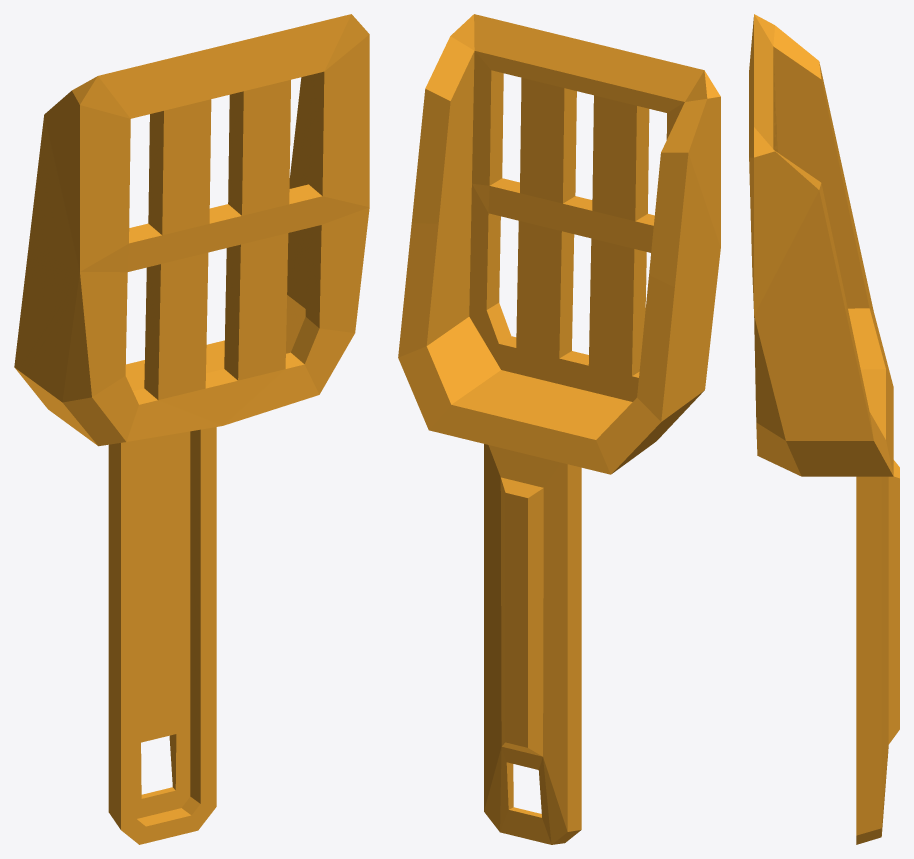
File: SM_Cat_Toilet_Scoop.fbx
The picture shows the model from 3 angles, left to right: view 1: azimuth 30°, elevation 25°; view 2: azimuth 150°, elevation 25°; view 3: azimuth 270°, elevation 25°; orthographic projection. The views are drawn at different scales.
Visible parts, largest first — view 1: Cat_Toilet_Scoop; view 2: Cat_Toilet_Scoop; view 3: Cat_Toilet_Scoop.
Part boxes in pixels (x1,y1,x2,y2): Cat_Toilet_Scoop: [14, 14, 369, 844]; Cat_Toilet_Scoop: [398, 14, 720, 844]; Cat_Toilet_Scoop: [749, 14, 899, 844].
Bounding box in the file's own units: 0.1 × 0.2749 × 0.0494.
